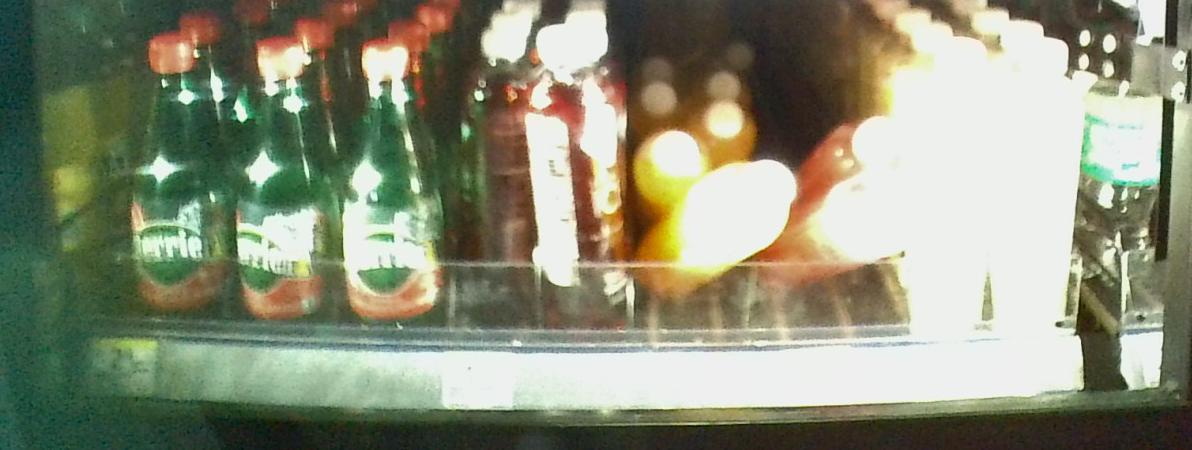bottle: (342, 37, 448, 344), (127, 32, 228, 342), (238, 31, 334, 343), (533, 19, 628, 330), (911, 39, 998, 339), (1004, 36, 1081, 343), (455, 26, 527, 319)
